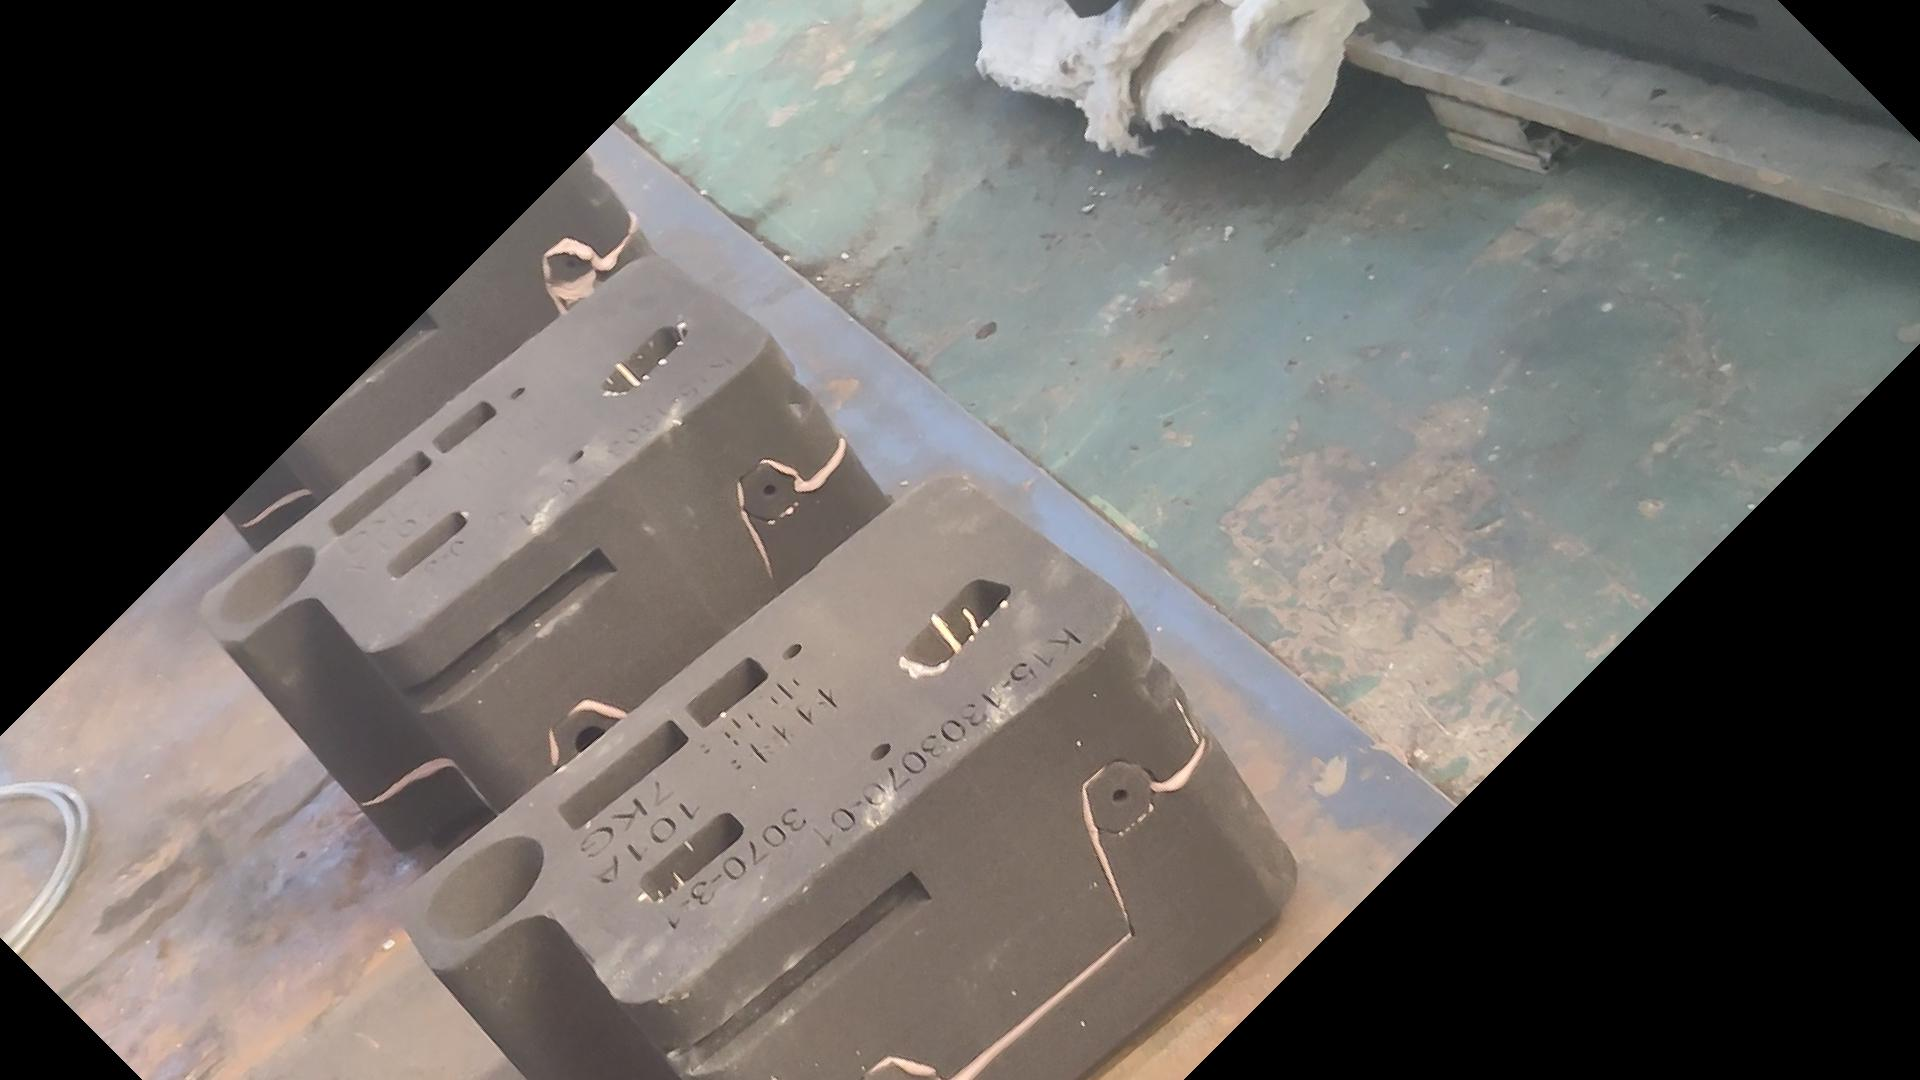pouring hole: (422, 833, 545, 938), (216, 545, 314, 629)
